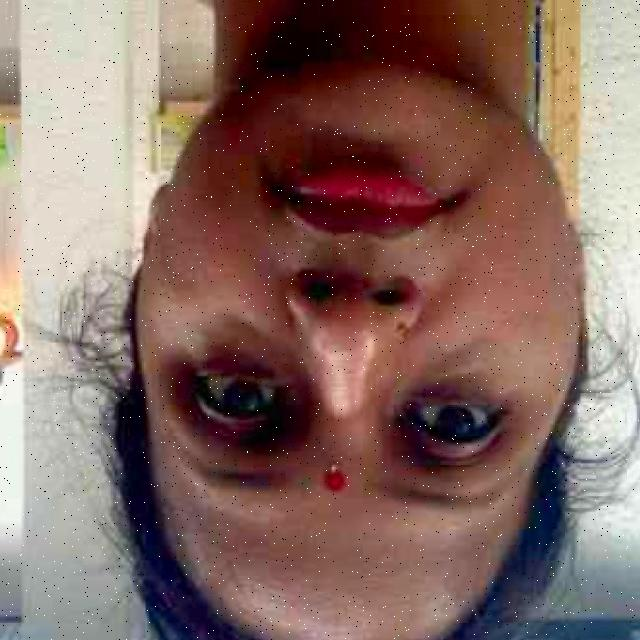puffy_eyes: (200, 313, 295, 377), (411, 344, 493, 386)
